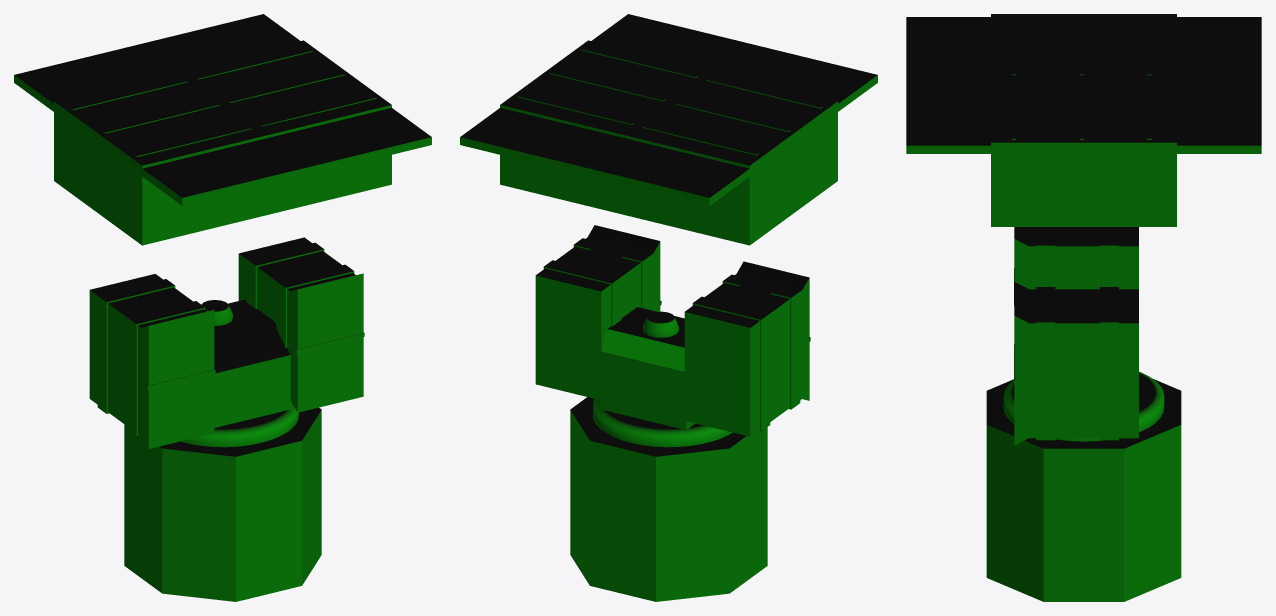
Rendered from srmpopup.glb.
3 renders of one model, left to right at view 1: azimuth 30°, elevation 25°; view 2: azimuth 150°, elevation 25°; view 3: azimuth 270°, elevation 25°, orthographic. The views are drawn at different scales.
Parts seen in each view (by area): view 1: lod0_Base, lod0_Gun, lod0_Pop, lod0_pop_door_l, lod0_pop_door_r, lod0_Turret, lod1_Gun; view 2: lod0_Base, lod0_Gun, lod0_Pop, lod0_pop_door_l, lod0_Turret, lod0_pop_door_r, lod1_Turret; view 3: lod0_Base, lod0_Pop, lod0_Gun, lod0_pop_door_r, lod0_pop_door_l, lod0_Turret.
Part boxes in pixels (x1,y1,x2,y2): lod0_Base: [14, 14, 431, 245]; lod0_Gun: [89, 237, 364, 448]; lod0_Pop: [124, 407, 321, 601]; lod0_pop_door_l: [54, 71, 266, 172]; lod0_pop_door_r: [179, 40, 391, 136]; lod0_Turret: [180, 299, 298, 447]; lod1_Gun: [158, 286, 353, 437]; lod0_Base: [460, 14, 877, 245]; lod0_Gun: [535, 225, 810, 436]; lod0_Pop: [570, 397, 767, 601]; lod0_pop_door_l: [625, 71, 837, 172]; lod0_Turret: [593, 307, 732, 447]; lod0_pop_door_r: [500, 40, 712, 137]; lod1_Turret: [594, 398, 718, 447]; lod0_Base: [906, 17, 1261, 226]; lod0_Pop: [986, 379, 1181, 601]; lod0_Gun: [1014, 227, 1138, 445]; lod0_pop_door_r: [991, 78, 1176, 150]; lod0_pop_door_l: [991, 14, 1176, 78]; lod0_Turret: [1003, 371, 1164, 441].
Bounding box in the file's own units: 7.2 × 12.63 × 8.4.
